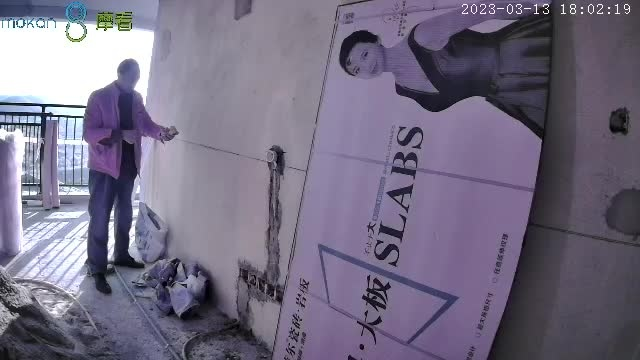people: (82, 58, 180, 294)
window: (1, 18, 155, 197)
